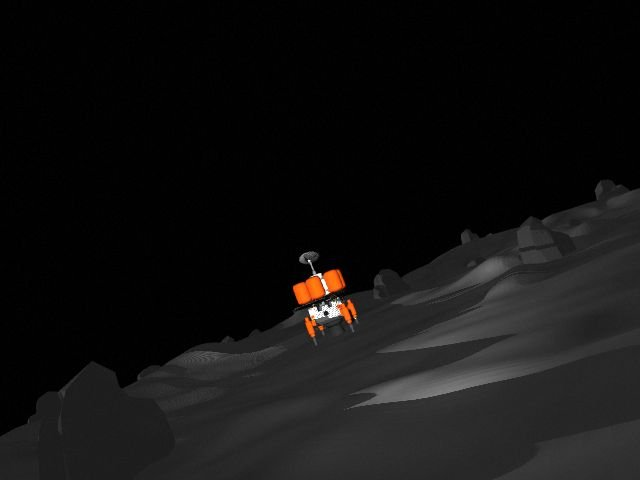homebase: (290, 249, 362, 347)
